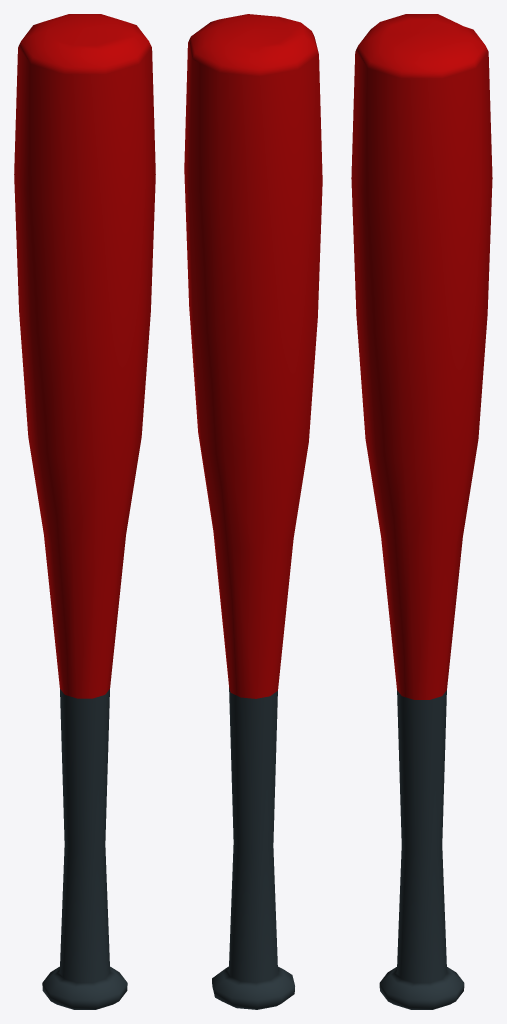
The model's file is gay bong chay.fbx.
3 renders of one model, left to right at view 1: azimuth 90°, elevation 25°; view 2: azimuth 150°, elevation 25°; view 3: azimuth 270°, elevation 25°, orthographic.
Visible parts, largest first — view 1: gay_bong_chay; view 2: gay_bong_chay; view 3: gay_bong_chay.
Boxes of the visible parts, left/top/right/bottom form: gay_bong_chay: left=14, top=14, right=155, bottom=1009; gay_bong_chay: left=184, top=14, right=322, bottom=1009; gay_bong_chay: left=351, top=14, right=492, bottom=1009.
Size of the model in its own units: 18.83 by 150 by 19.79.
